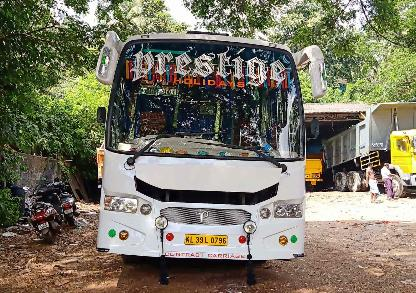bus: (82, 22, 343, 276)
